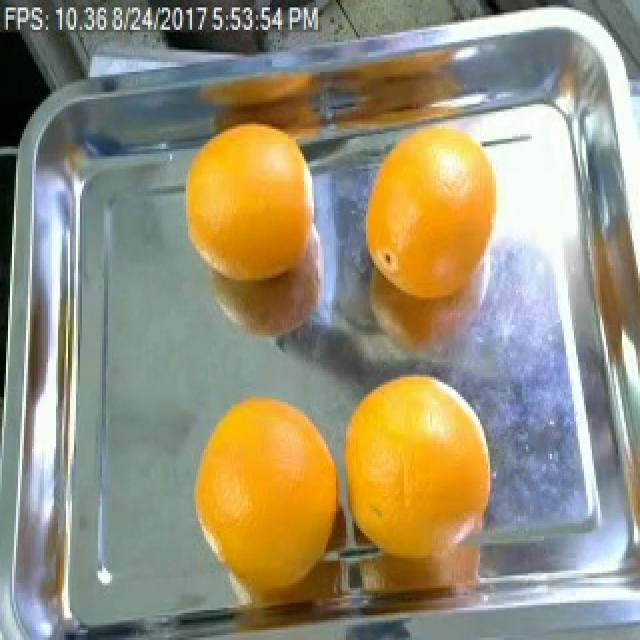Fruit: (330, 354, 512, 560), (350, 111, 522, 318), (184, 384, 344, 586), (168, 104, 316, 310)
